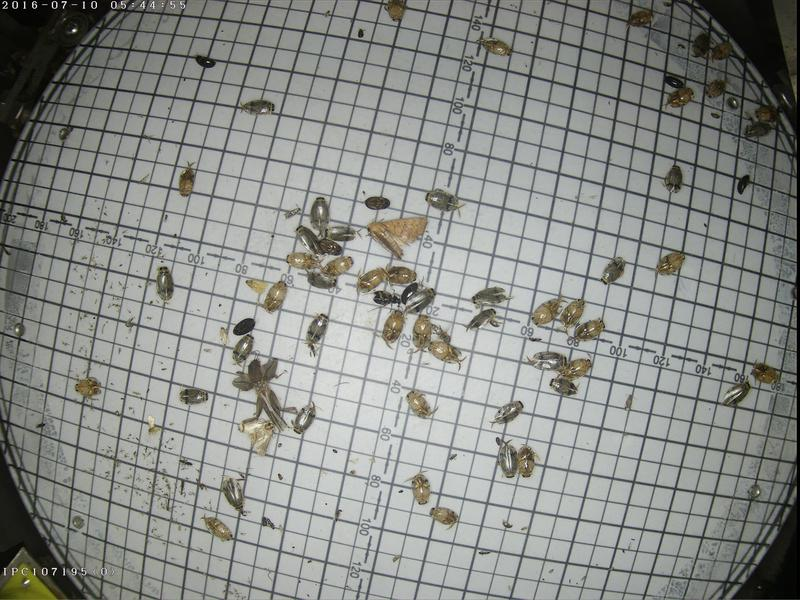Gryllotalpa orientalis: (228, 347, 298, 432)
